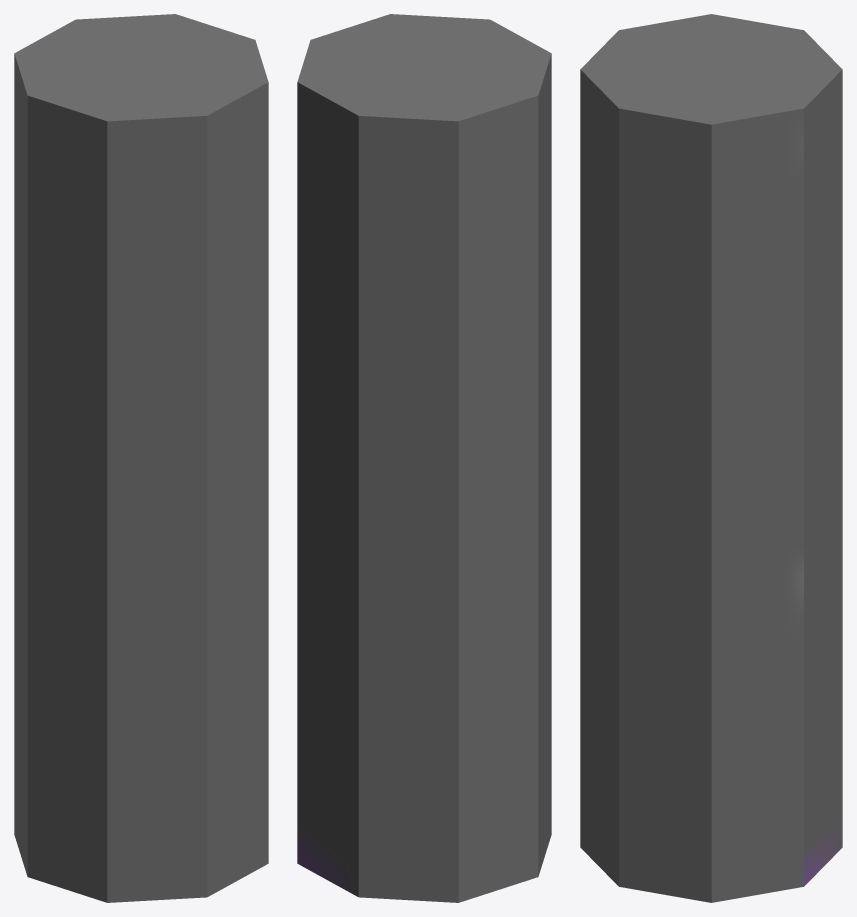
3 renders of one model, left to right at view 1: azimuth 30°, elevation 25°; view 2: azimuth 150°, elevation 25°; view 3: azimuth 270°, elevation 25°, orthographic.
Visible parts, largest first — view 1: SM_B_Part4; view 2: SM_B_Part4; view 3: SM_B_Part4.
Part boxes in pixels (left/top/right/bottom): SM_B_Part4: left=14, top=14, right=268, bottom=902; SM_B_Part4: left=297, top=14, right=551, bottom=902; SM_B_Part4: left=580, top=14, right=842, bottom=902.
Size of the model in its own units: 59.04 by 59.04 by 193.
Materials: 1 (1 with a texture image).
